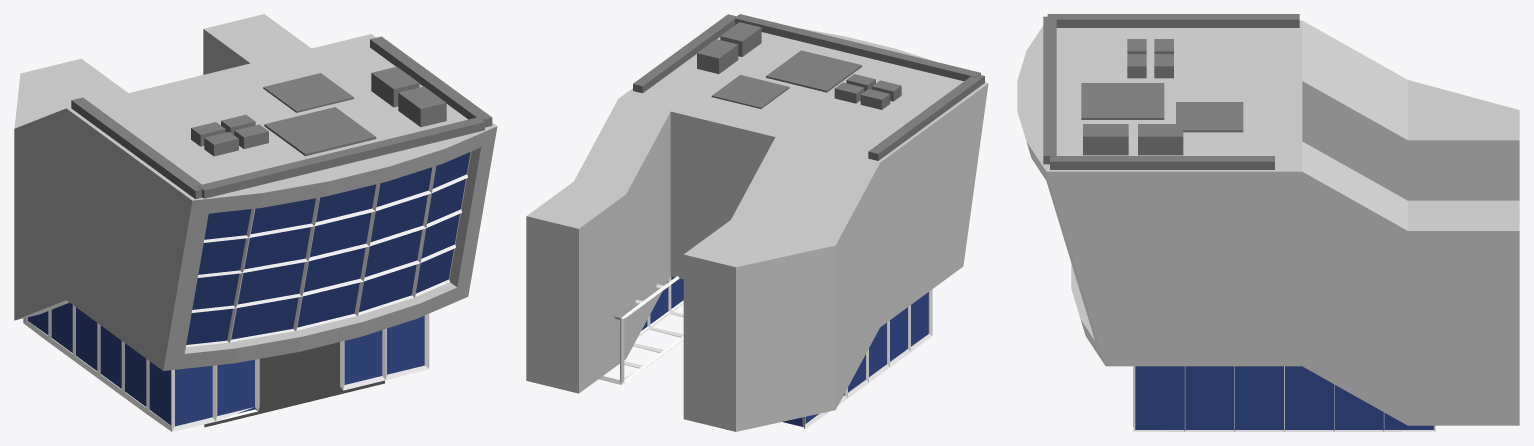
The picture shows the model from 3 angles, left to right: view 1: azimuth 30°, elevation 25°; view 2: azimuth 150°, elevation 25°; view 3: azimuth 270°, elevation 25°; orthographic projection. The views are drawn at different scales.
Parts seen in each view (by area): view 1: Plane.002_2, Plane.008_10, Plane.010_12, Plane.007_9, Plane, Plane.001_1, Plane.016_18, Plane.017_19, Plane.011_13, Plane.013_15, Plane.012_14, Plane.015_17; view 2: Plane.002_2, Plane.010_12, Plane.008_10, Plane.001_1, Plane.016_18, Plane.017_19, Plane.011_13, Plane.015_17, Plane.014_16; view 3: Plane.002_2, Plane.008_10, Plane.010_12, Plane.016_18, Plane.017_19, Plane.011_13, Plane.001_1, Plane.012_14, Plane.014_16.
Boxes of the visible parts, left/top/right/bottom form: Plane.002_2: left=14, top=14, right=497, bottom=370; Plane.008_10: left=27, top=302, right=424, bottom=426; Plane.010_12: left=71, top=36, right=492, bottom=199; Plane.007_9: left=186, top=152, right=471, bottom=347; Plane: left=204, top=342, right=384, bottom=427; Plane.001_1: left=23, top=305, right=429, bottom=431; Plane.016_18: left=264, top=107, right=376, bottom=156; Plane.017_19: left=263, top=73, right=353, bottom=112; Plane.011_13: left=371, top=66, right=419, bottom=107; Plane.013_15: left=204, top=132, right=238, bottom=156; Plane.012_14: left=234, top=124, right=268, bottom=148; Plane.015_17: left=191, top=122, right=225, bottom=146; Plane.002_2: left=526, top=28, right=988, bottom=431; Plane.010_12: left=633, top=14, right=984, bottom=160; Plane.008_10: left=641, top=276, right=928, bottom=426; Plane.001_1: left=599, top=276, right=932, bottom=428; Plane.016_18: left=766, top=50, right=861, bottom=92; Plane.017_19: left=711, top=75, right=789, bottom=108; Plane.011_13: left=697, top=39, right=738, bottom=73; Plane.015_17: left=860, top=89, right=890, bottom=109; Plane.014_16: left=834, top=82, right=864, bottom=103; Plane.002_2: left=1017, top=20, right=1519, bottom=425; Plane.008_10: left=1135, top=366, right=1433, bottom=429; Plane.010_12: left=1043, top=14, right=1299, bottom=169; Plane.016_18: left=1081, top=83, right=1164, bottom=119; Plane.017_19: left=1176, top=102, right=1243, bottom=132; Plane.011_13: left=1138, top=124, right=1183, bottom=155; Plane.001_1: left=1133, top=366, right=1435, bottom=431; Plane.012_14: left=1127, top=54, right=1146, bottom=78; Plane.014_16: left=1154, top=54, right=1173, bottom=78.
Bounding box in the file's own units: 3.37 × 3.1 × 4.74.
